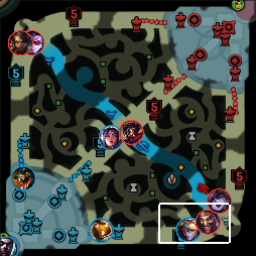bard: (89, 218, 113, 241)
draven: (195, 210, 220, 235)
ekko: (1, 235, 16, 256)
ezreal: (175, 217, 201, 241)
irelia: (98, 125, 121, 149)
lulu: (206, 187, 230, 213)
nidalee: (8, 30, 32, 55)
renekton: (11, 166, 35, 189)
vayne: (21, 30, 45, 55)
viktor: (118, 119, 144, 144)
